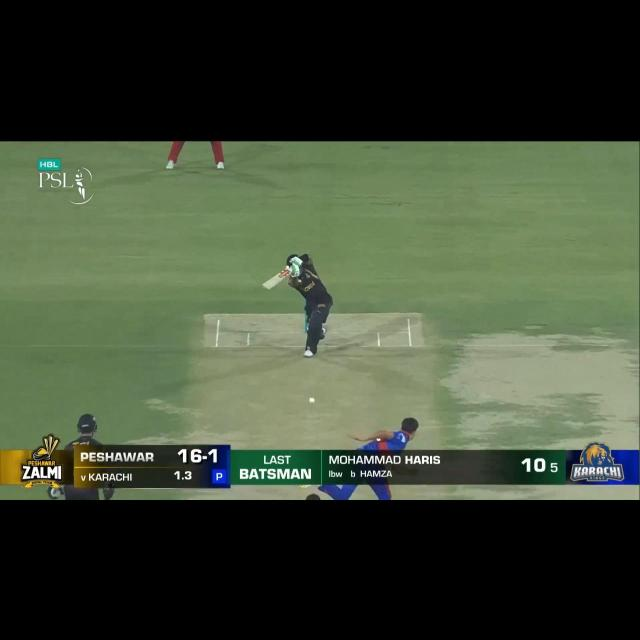bat: (261, 268, 296, 291)
toe: (261, 282, 272, 292)
